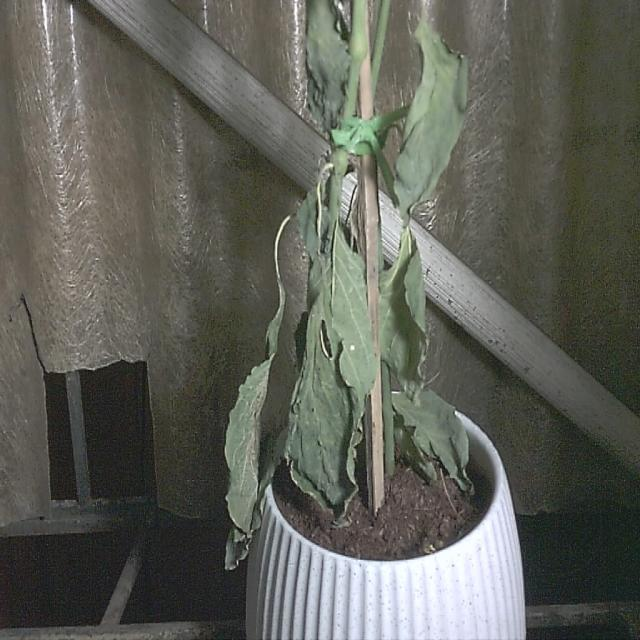Leaf: (285, 257, 364, 525), (220, 289, 285, 568), (394, 15, 465, 226)
